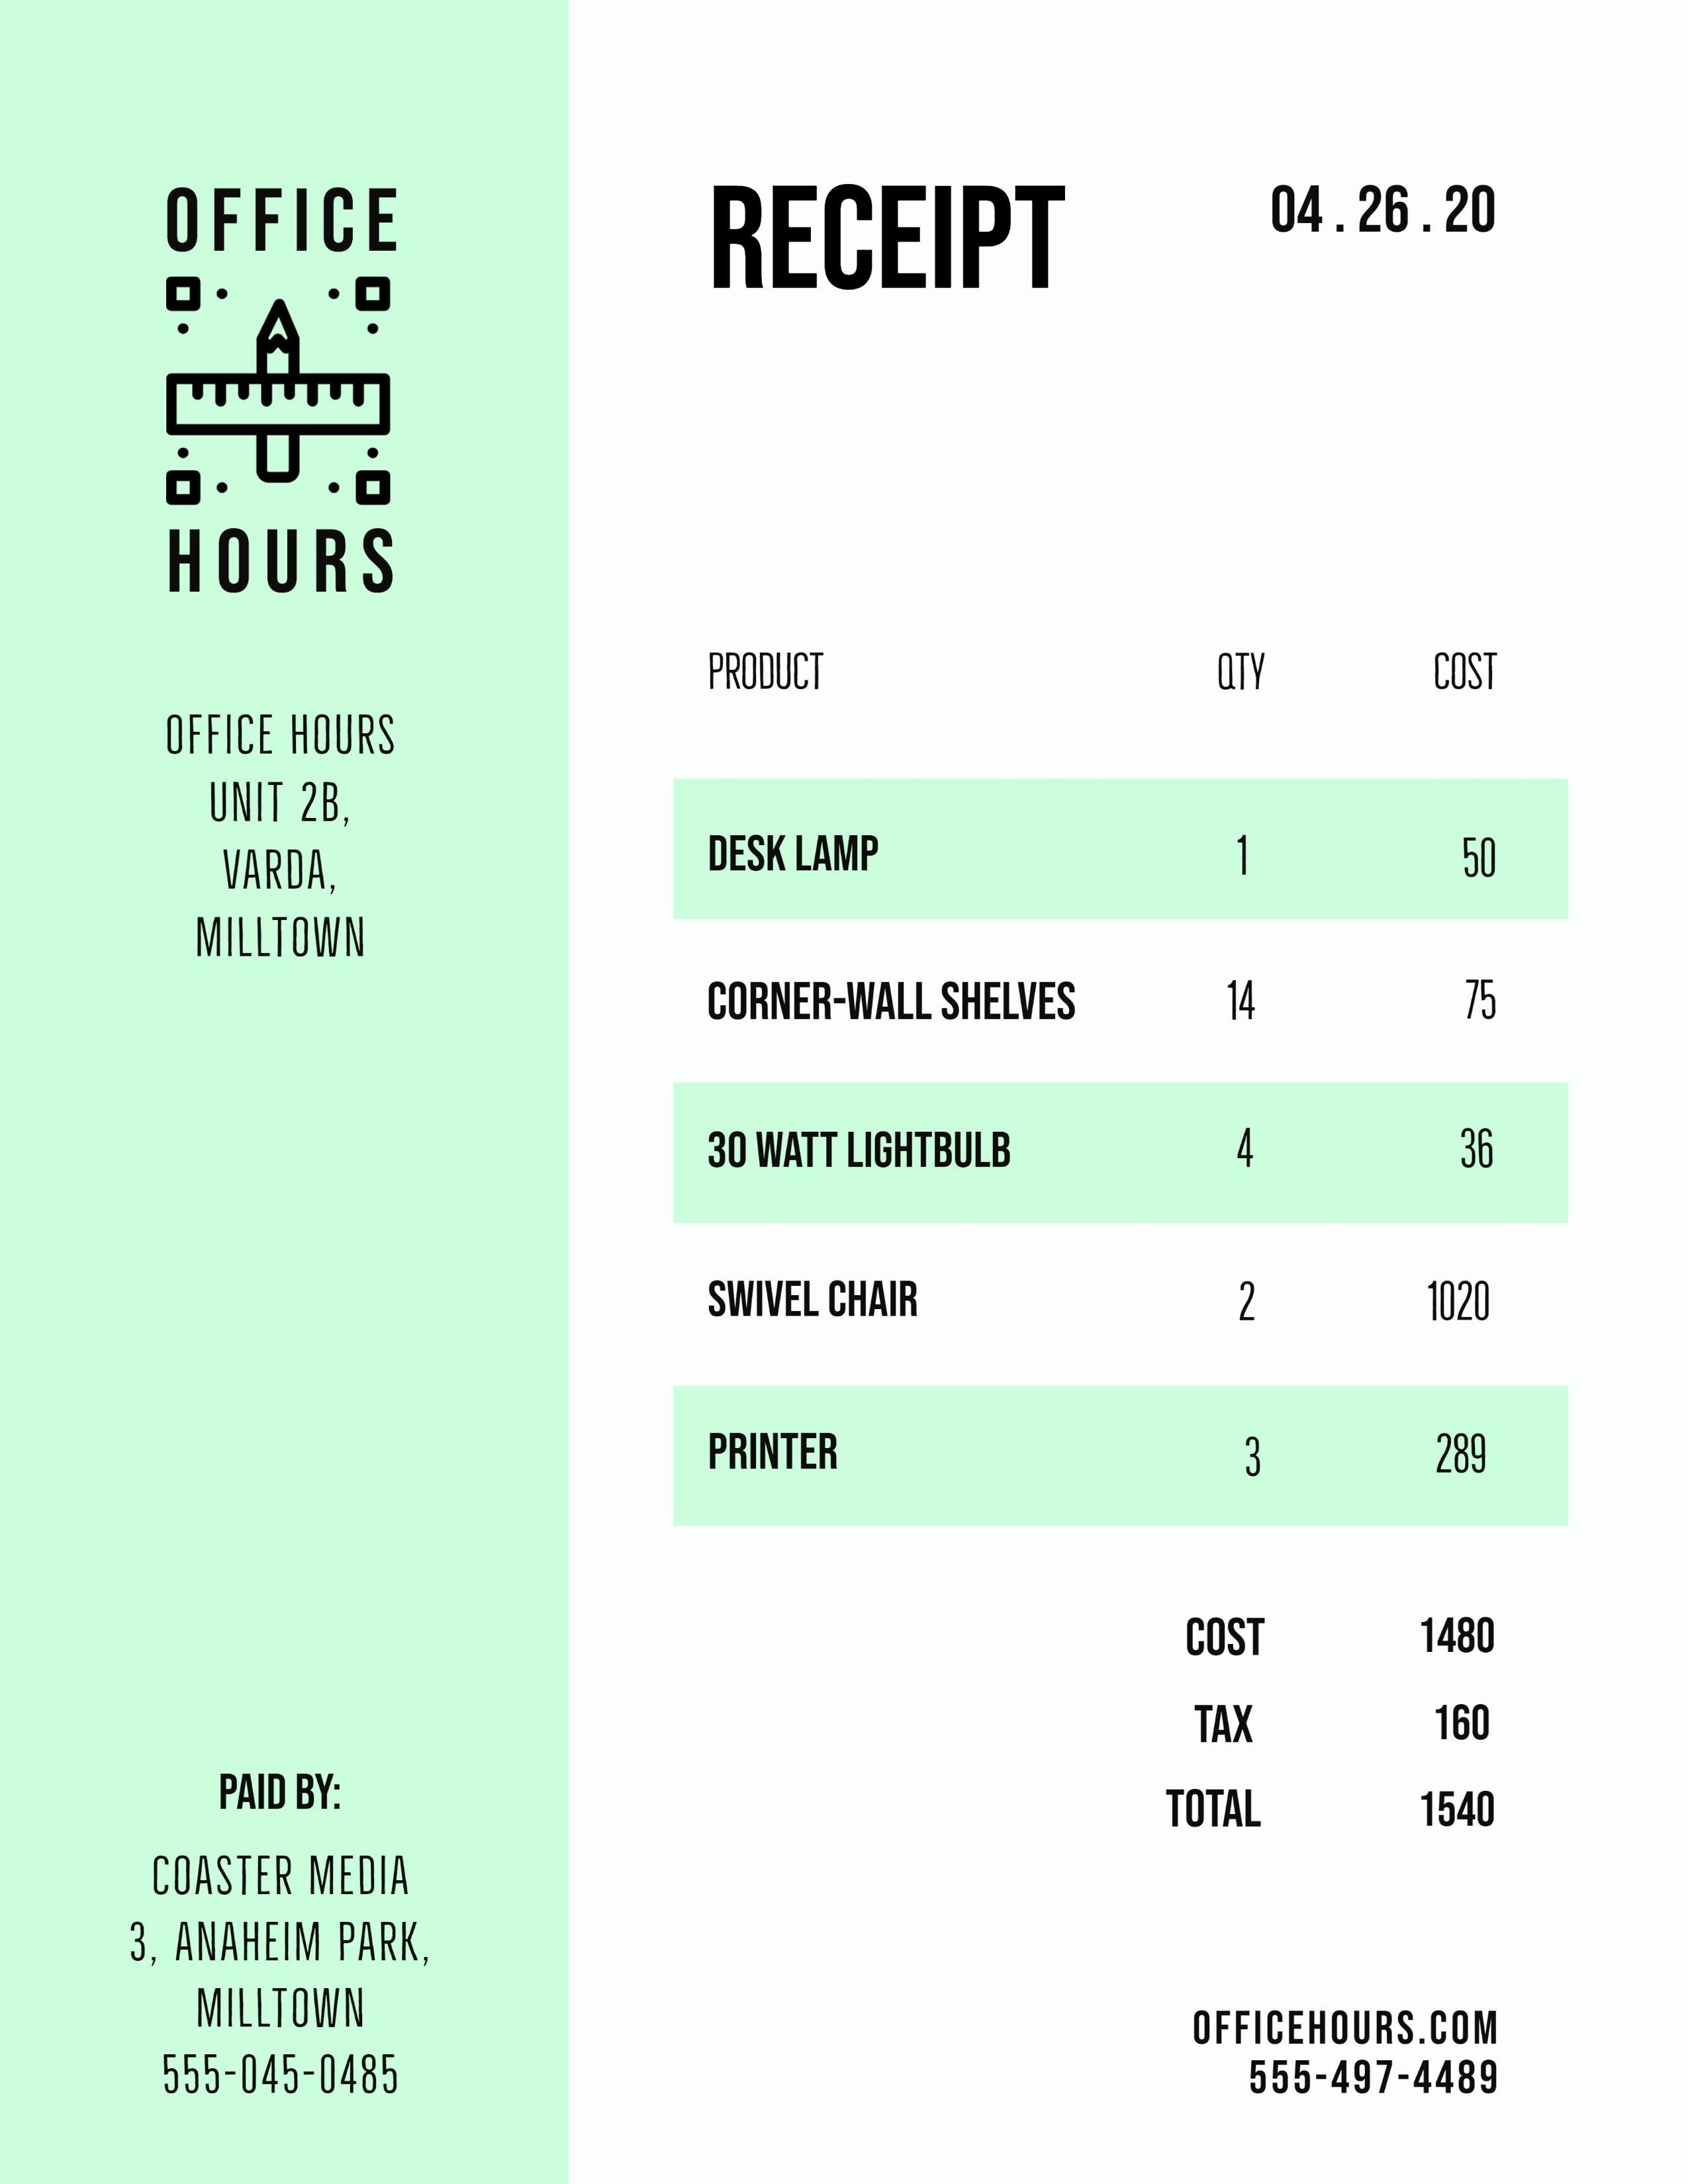ROI: (681, 620, 1566, 1530), (101, 1737, 489, 2141), (1138, 1603, 1550, 1849), (131, 665, 443, 961), (1257, 147, 1546, 264)
